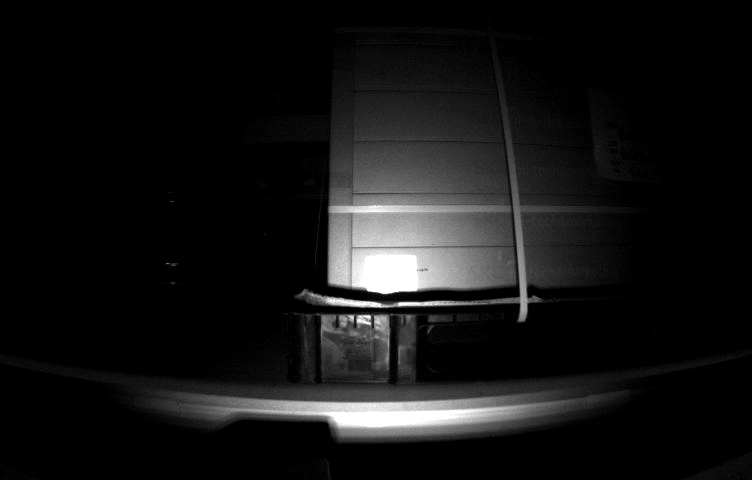True Barcode: (364, 255, 418, 293)
